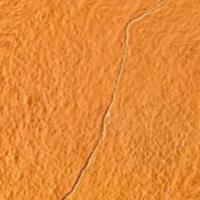crack: (59, 24, 133, 199)
